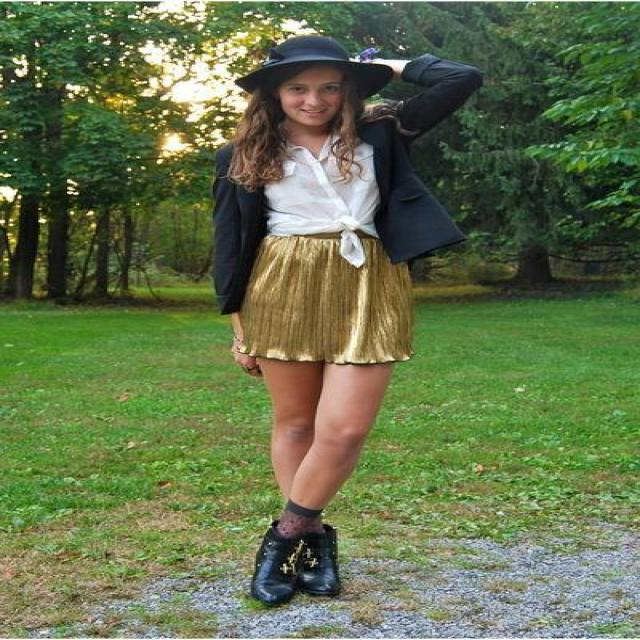hat: (235, 39, 392, 98)
jacket: (204, 50, 478, 314)
shirt: (266, 143, 378, 267)
shoe: (240, 500, 352, 609)
skirt: (230, 224, 421, 379)
